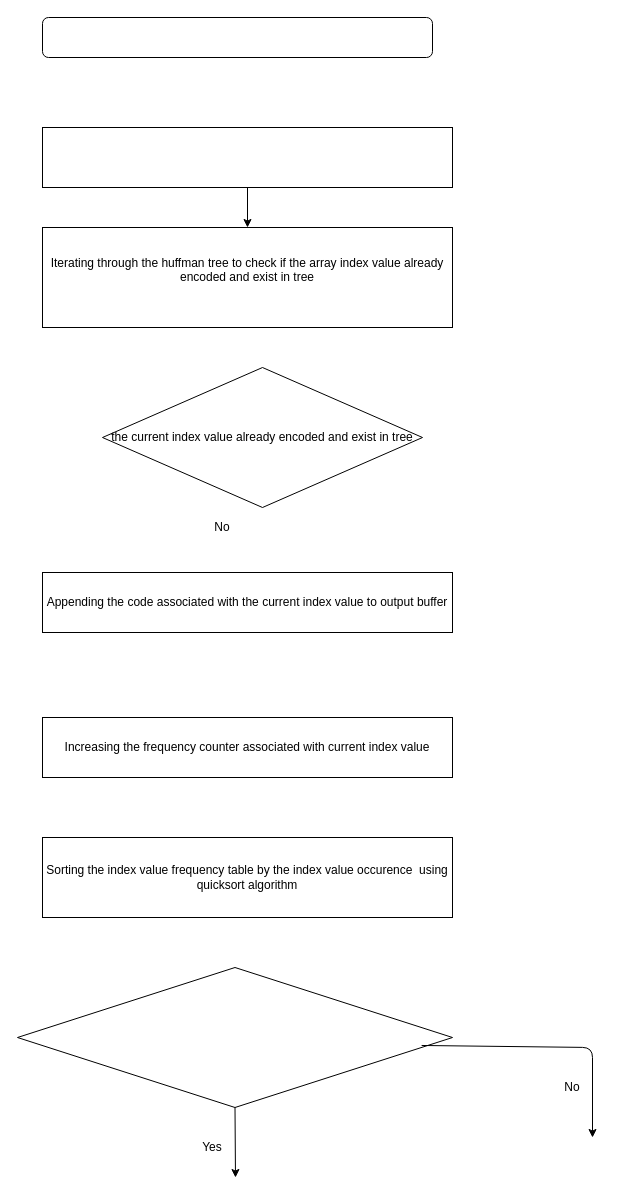
This 618x1203 diagram has some shape labels left out. The shapes that lost their labels are listed below. From the top down, each one's centre as x and y in pixels, then its label:
At point (237, 37): "Start".
At point (247, 157): "Process the image into 2D array".
At point (234, 1037): "Is this the first unique index value in input buffer".
